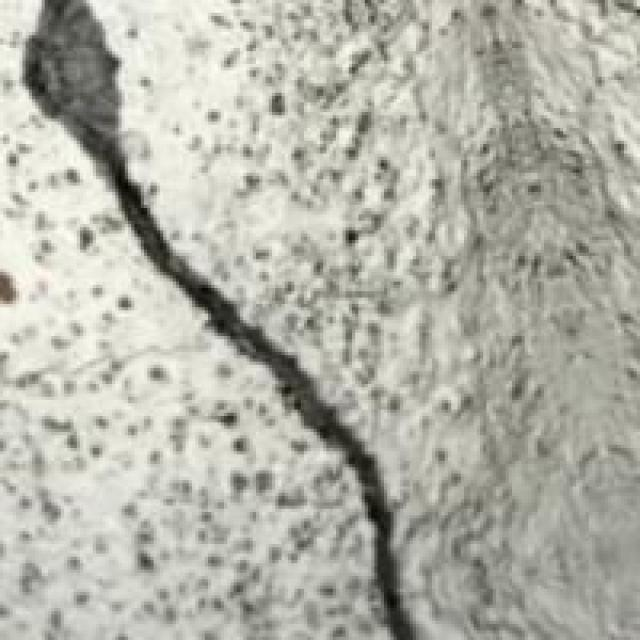crack: (3, 0, 435, 637)
